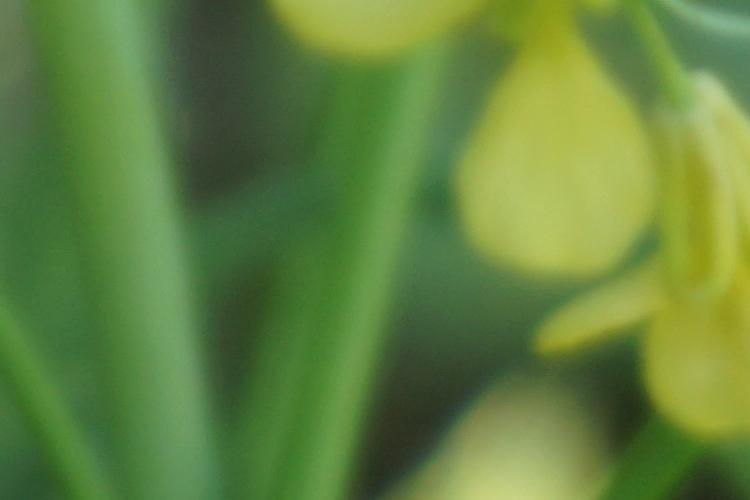yellow: (565, 71, 750, 426)
